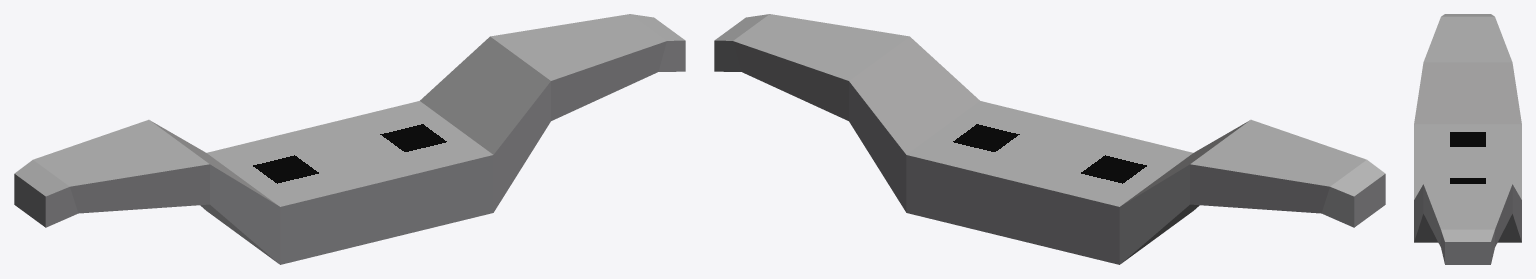
File: blindCordStop.fbx
The picture shows the model from 3 angles, left to right: view 1: azimuth 30°, elevation 25°; view 2: azimuth 150°, elevation 25°; view 3: azimuth 270°, elevation 25°; orthographic projection. The views are drawn at different scales.
Visible parts, largest first — view 1: cuboid; view 2: cuboid; view 3: cuboid.
Boxes of the visible parts, x1,y1,x2,y2 form: cuboid: [14, 14, 685, 264]; cuboid: [714, 14, 1385, 264]; cuboid: [1414, 14, 1521, 264].
Size of the model in its own units: 188 by 31.25 by 37.5.
Materials: 1 (1 with a texture image).
